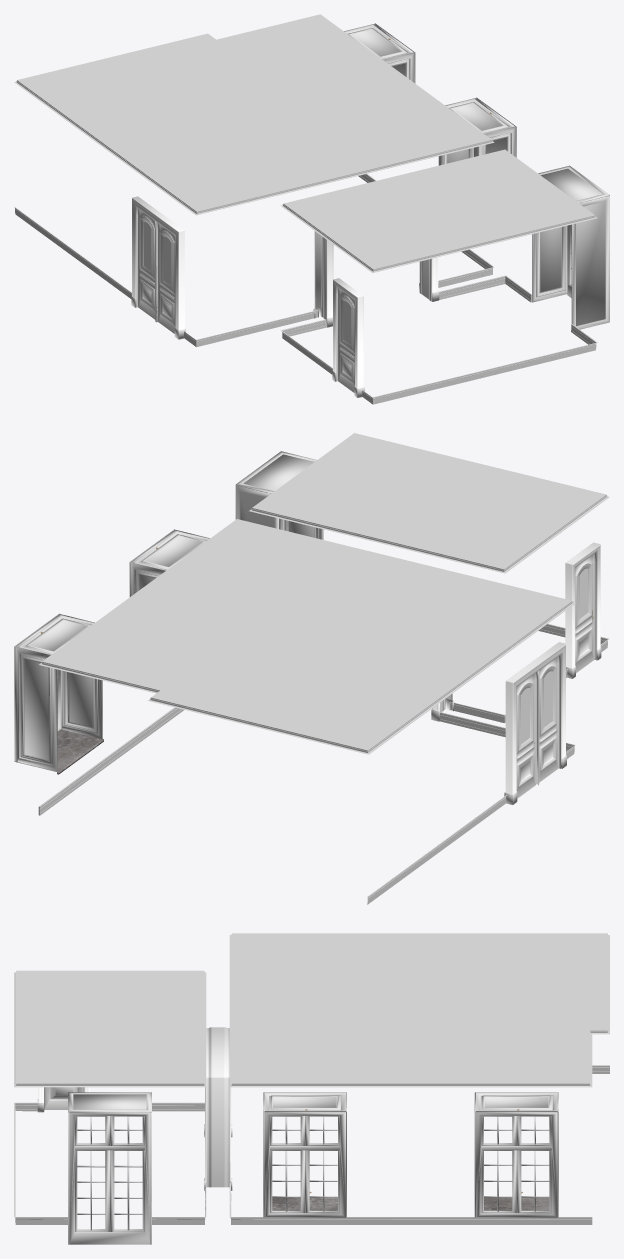
The model's file is Porte_cornici e battiscopa.glb.
3 views of the same model, one above another, from view 1: azimuth 30°, elevation 25°; view 2: azimuth 150°, elevation 25°; view 3: azimuth 270°, elevation 25° (orthographic). The views are drawn at different scales.
Parts seen in each view (by area): view 1: Ceiling, Balcony door, Base, Door_02, Door_01, Door frame, Window_02, Window_01; view 2: Ceiling, Window_01, Door_02, Base, Door_01, Balcony door, Window_02, Window sill; view 3: Ceiling, Balcony door, Window_01, Window_02, Base, Door frame, Window sill, Door_01.
Boxes of the visible parts, left/top/right/bottom form: Ceiling: left=14, top=14, right=597, bottom=272; Balcony door: left=532, top=165, right=609, bottom=329; Base: left=14, top=174, right=597, bottom=404; Door_02: left=131, top=196, right=185, bottom=339; Door_01: left=332, top=278, right=364, bottom=397; Door frame: left=313, top=231, right=439, bottom=327; Window_02: left=438, top=97, right=516, bottom=165; Window_01: left=344, top=23, right=415, bottom=83; Ceiling: left=39, top=433, right=609, bottom=754; Window_01: left=14, top=613, right=102, bottom=771; Door_02: left=504, top=642, right=566, bottom=804; Base: left=38, top=623, right=609, bottom=904; Door_01: left=565, top=542, right=601, bottom=678; Balcony door: left=235, top=451, right=323, bottom=539; Window_02: left=129, top=529, right=209, bottom=597; Window sill: left=14, top=729, right=103, bottom=774; Ceiling: left=14, top=933, right=609, bottom=1087; Balcony door: left=68, top=1092, right=151, bottom=1244; Window_01: left=474, top=1092, right=558, bottom=1217; Window_02: left=263, top=1092, right=346, bottom=1217; Base: left=14, top=1065, right=609, bottom=1224; Door frame: left=204, top=1027, right=232, bottom=1190; Window sill: left=264, top=1197, right=549, bottom=1216; Door_01: left=37, top=1087, right=89, bottom=1112.
Bounding box in the file's own units: 9.54 × 3.6 × 13.8.
Materials: 6 (1 with a texture image).
